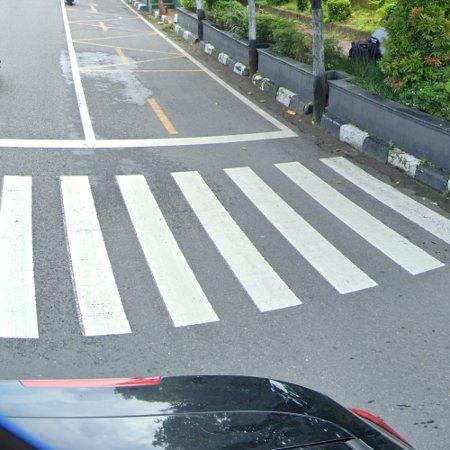crosswalks: (0, 155, 450, 342)
